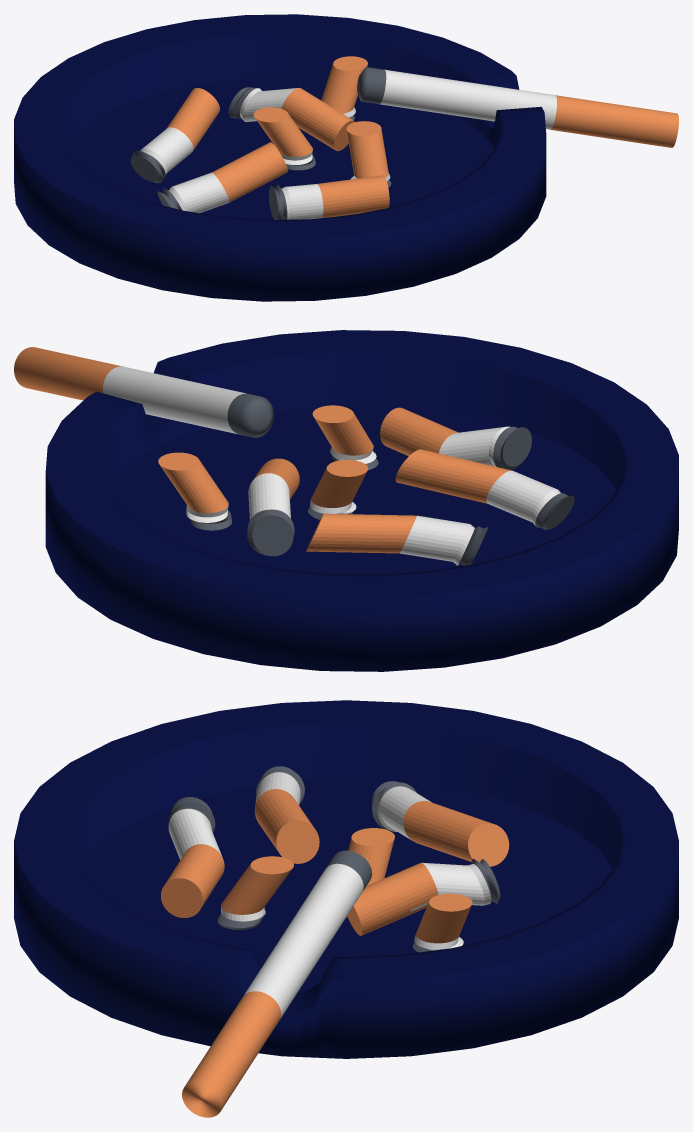
3 renders of one model, top to bottom at view 1: azimuth 30°, elevation 25°; view 2: azimuth 150°, elevation 25°; view 3: azimuth 270°, elevation 25°, orthographic. The views are drawn at different scales.
Visible parts, largest first — view 1: 円, 円柱; view 2: 円, 円柱; view 3: 円, 円柱.
Boxes of the visible parts, <box> form: 円: <box>14,14,546,301</box>; 円柱: <box>130,56,678,219</box>; 円: <box>45,330,678,671</box>; 円柱: <box>14,347,574,565</box>; 円: <box>14,700,678,1058</box>; 円柱: <box>161,766,509,1117</box>.
Size of the model in its own units: 249 by 40.42 by 200.
